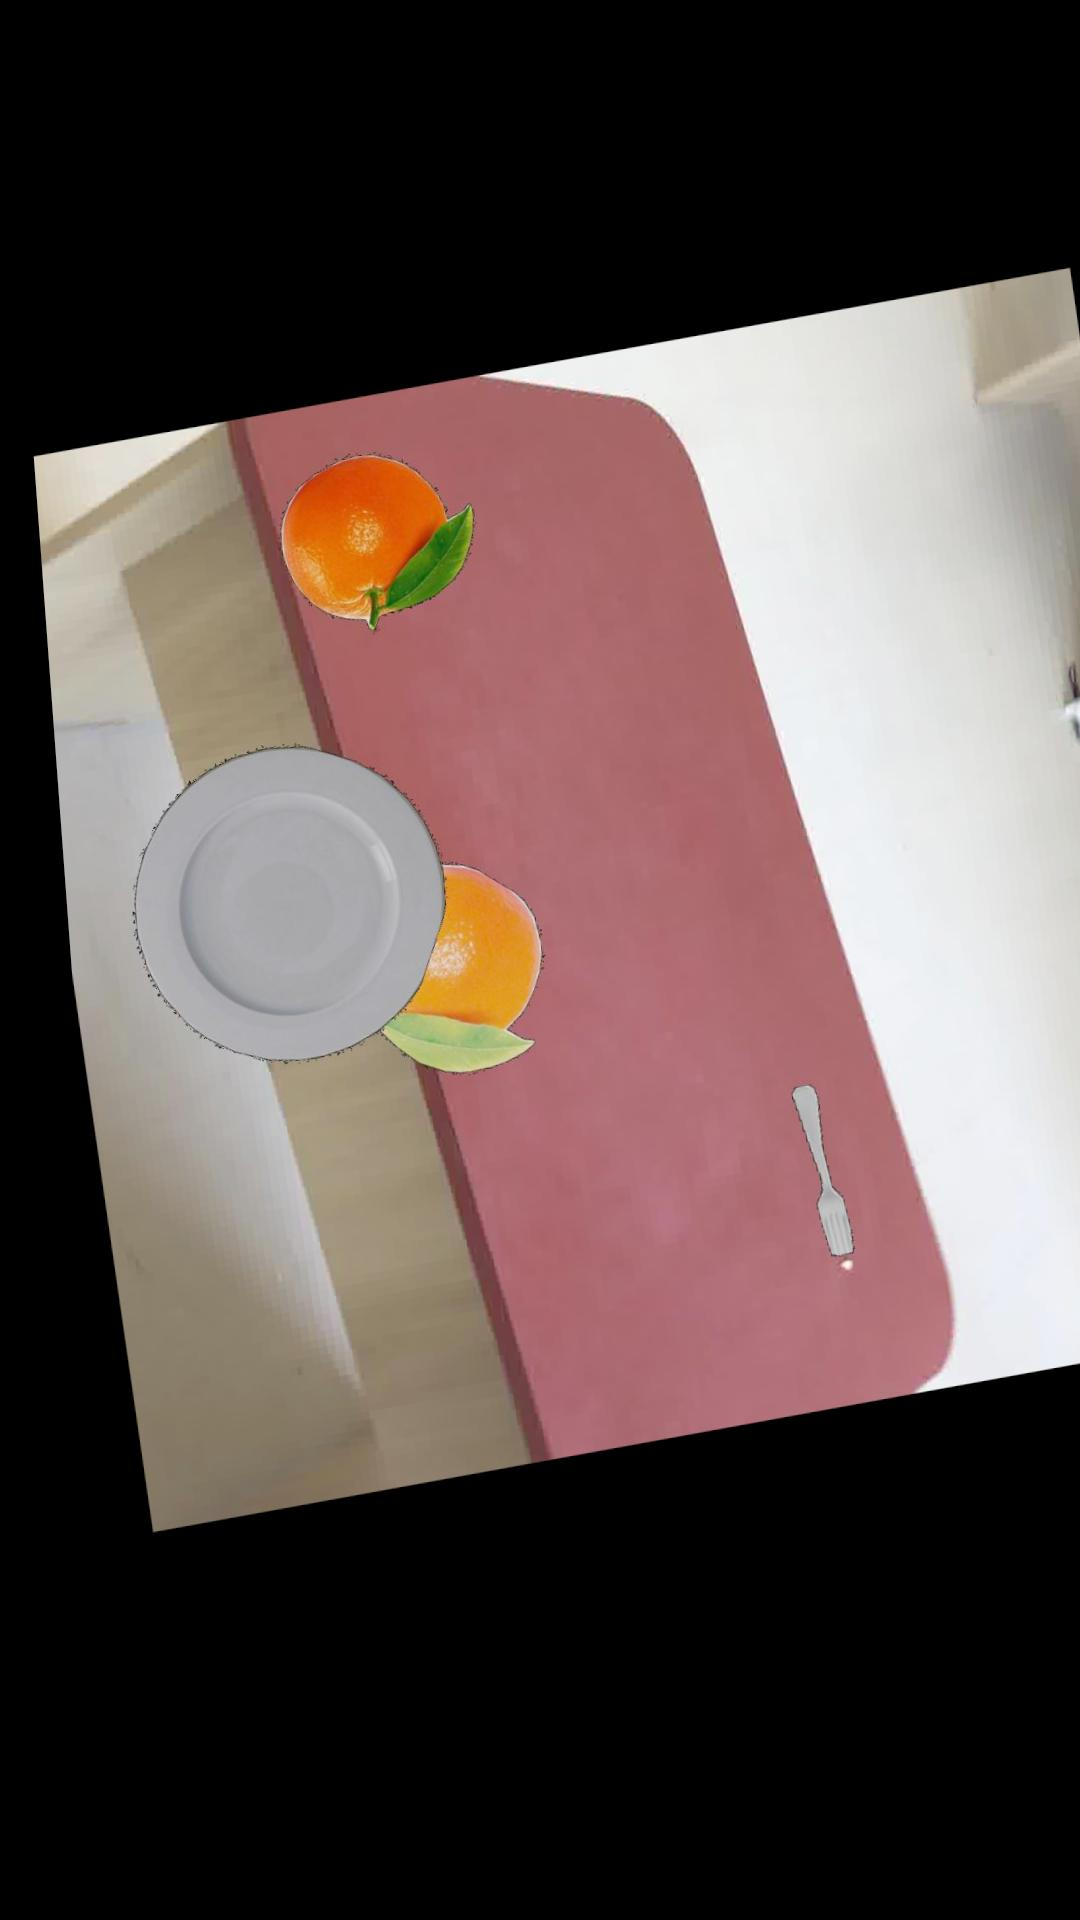fork: (773, 1102, 833, 1275)
orange: (364, 874, 530, 1084), (272, 463, 465, 640)
plate: (119, 752, 431, 1067)
